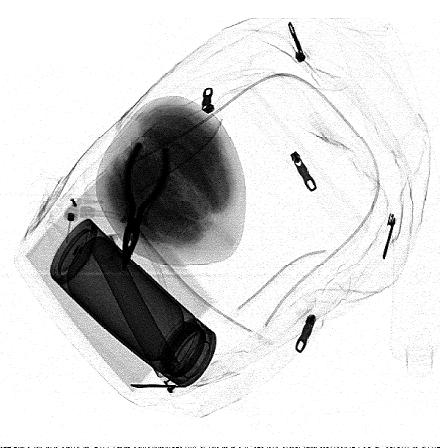Pliers: (120, 139, 172, 272)
